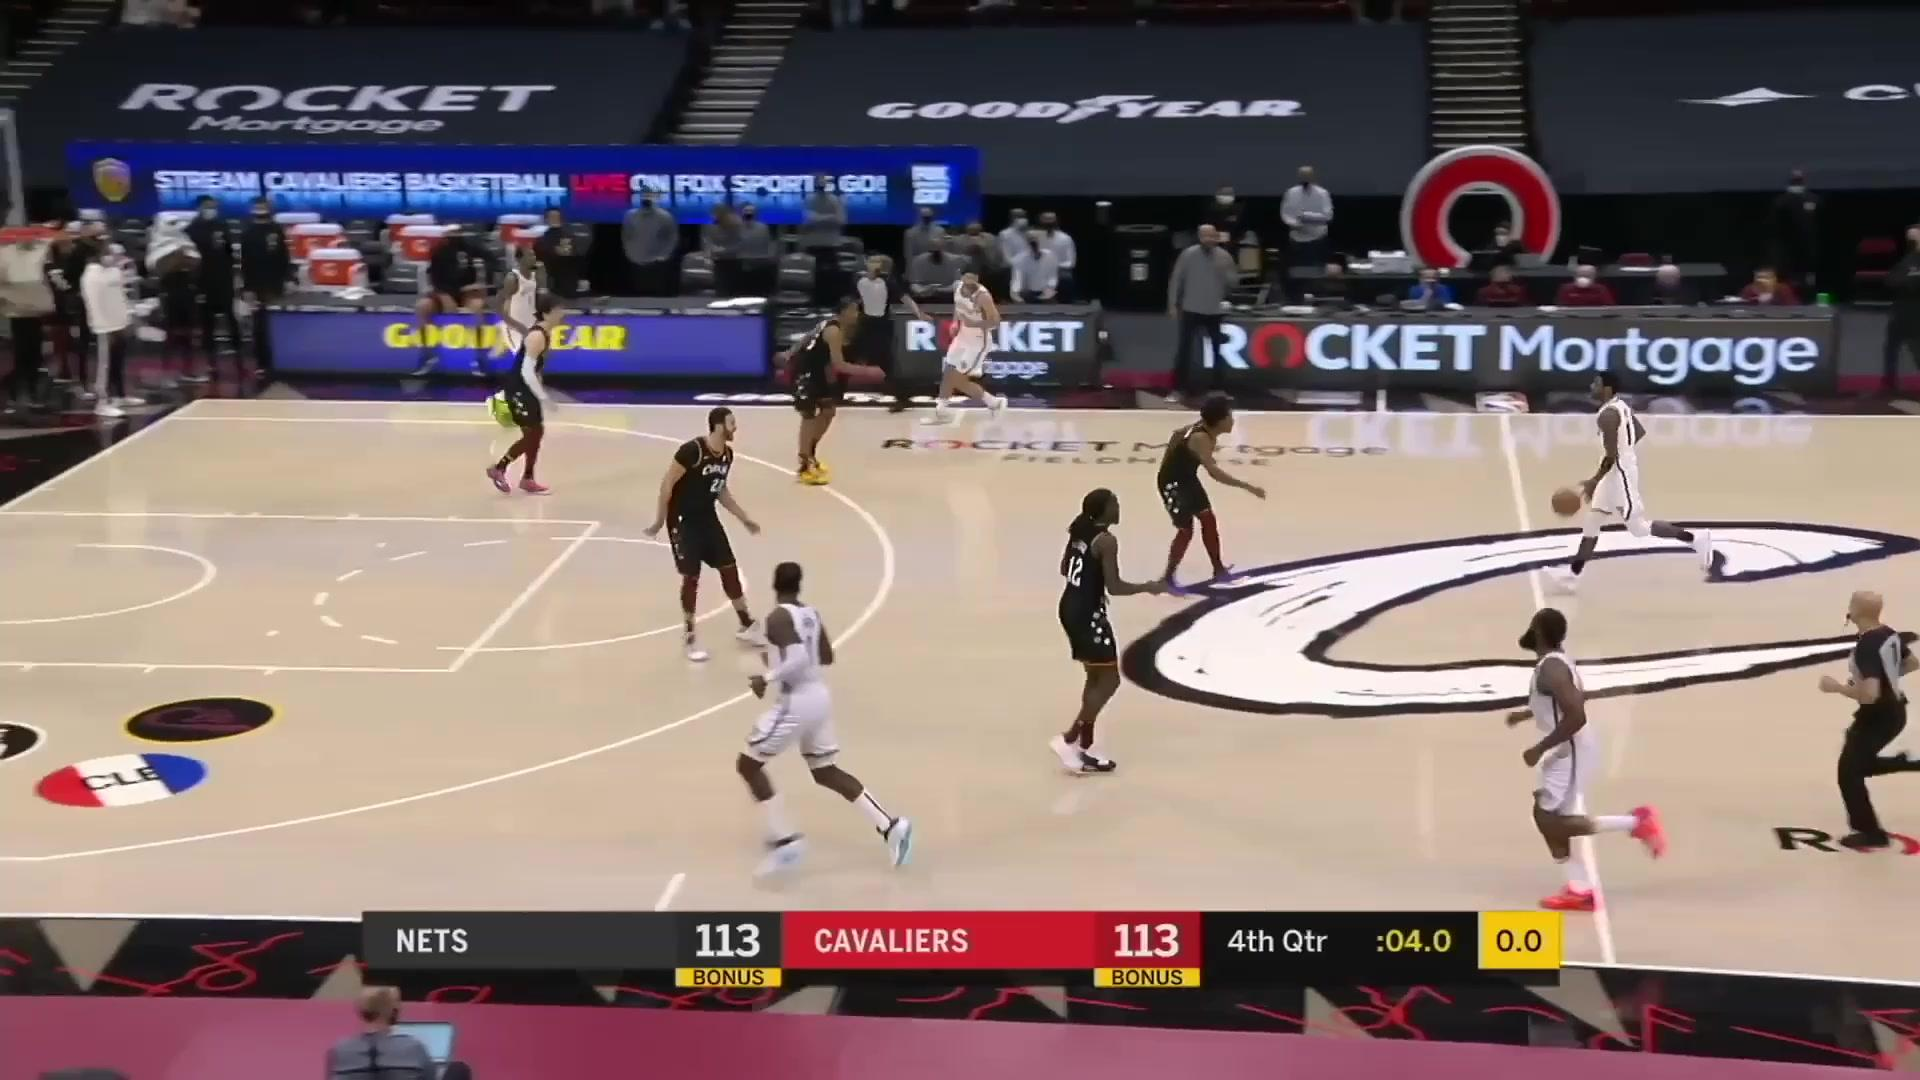no_foul: (451, 238, 593, 503)
